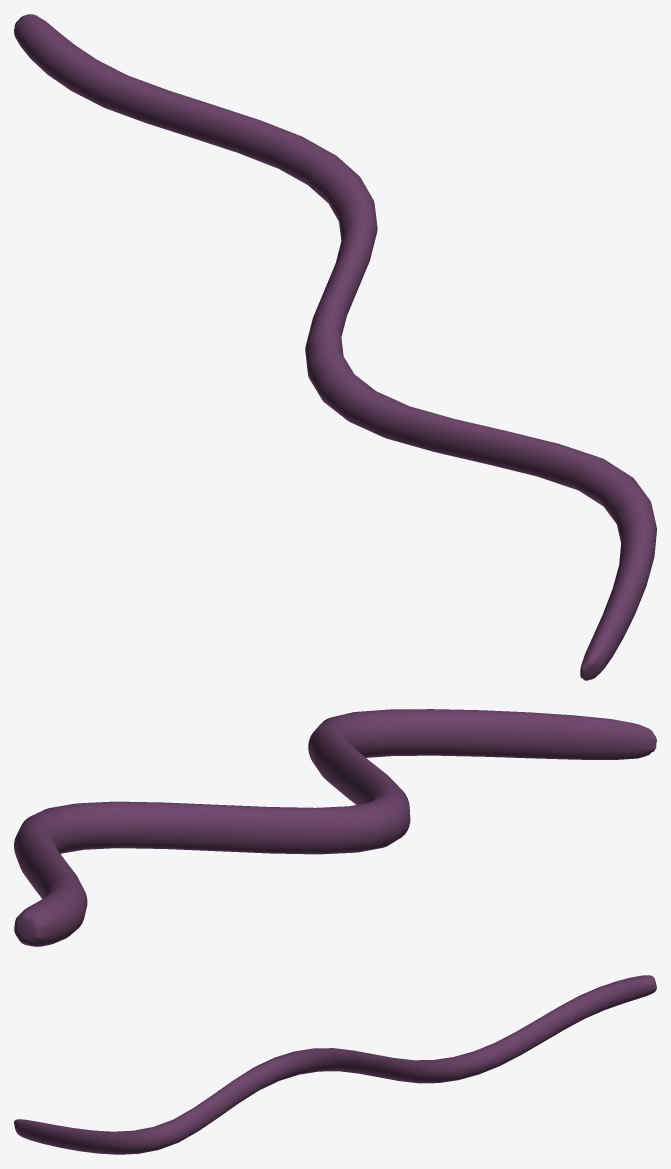
Rendered from frame_2.obj.
3 renders of one model, top to bottom at view 1: azimuth 30°, elevation 25°; view 2: azimuth 150°, elevation 25°; view 3: azimuth 270°, elevation 25°, orthographic. The views are drawn at different scales.
Parts seen in each view (by area): view 1: worm2; view 2: worm2; view 3: worm2.
Boxes of the visible parts, box(x1,y1,x2,y2) form: worm2: box(14, 14, 656, 680); worm2: box(14, 709, 656, 946); worm2: box(14, 975, 656, 1154).
Bounding box in the file's own units: 348 × 459 × 1733.
